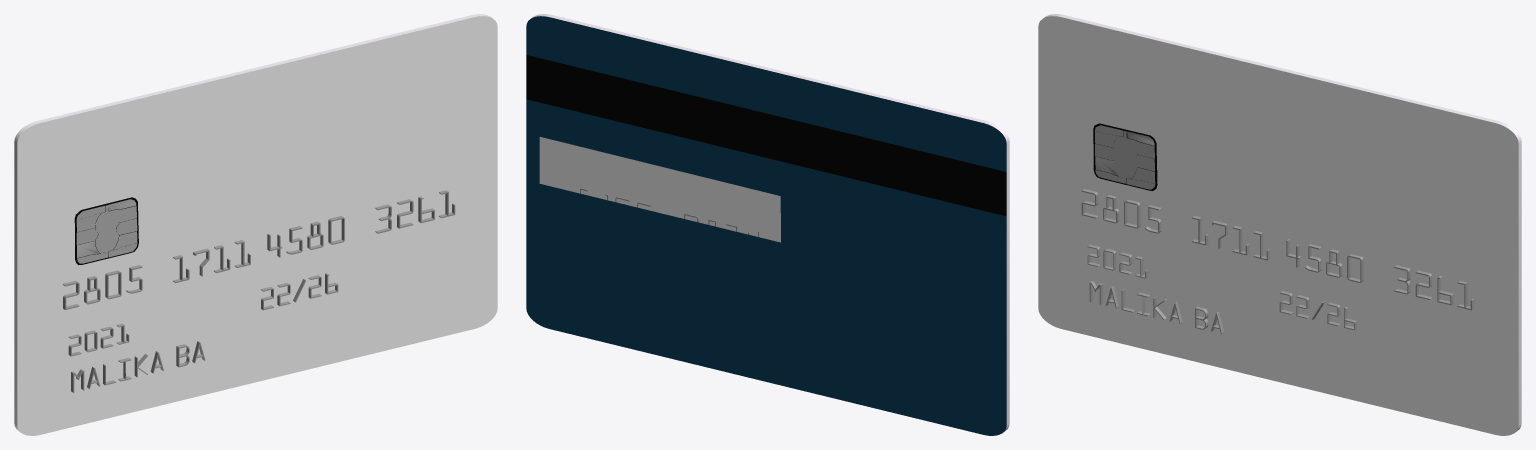
File: credit_card.glb
The picture shows the model from 3 angles, left to right: view 1: azimuth 30°, elevation 25°; view 2: azimuth 150°, elevation 25°; view 3: azimuth 330°, elevation 25°; orthographic projection.
Visible parts, largest first — view 1: id; view 2: id; view 3: id.
Part boxes in pixels (left/top/right/bottom): id: left=14, top=14, right=497, bottom=435; id: left=526, top=14, right=1009, bottom=435; id: left=1038, top=14, right=1521, bottom=435.
Size of the model in its own units: 2.01 by 1.25 by 0.0382.
